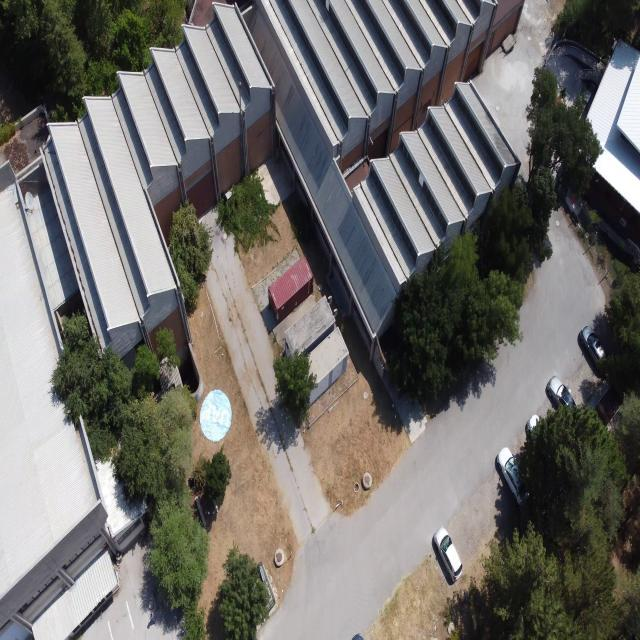vehicle: (496, 446, 530, 504), (200, 389, 232, 442), (434, 526, 464, 582), (580, 324, 606, 366), (547, 375, 575, 410)
